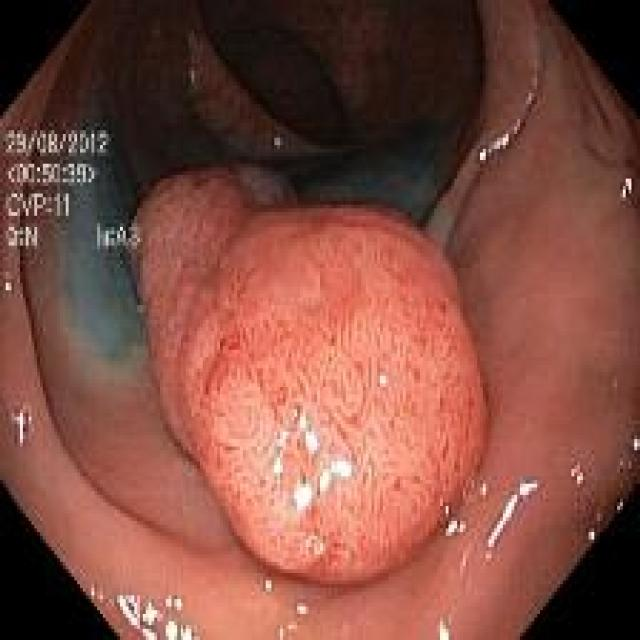Polyps: (135, 168, 488, 586)
